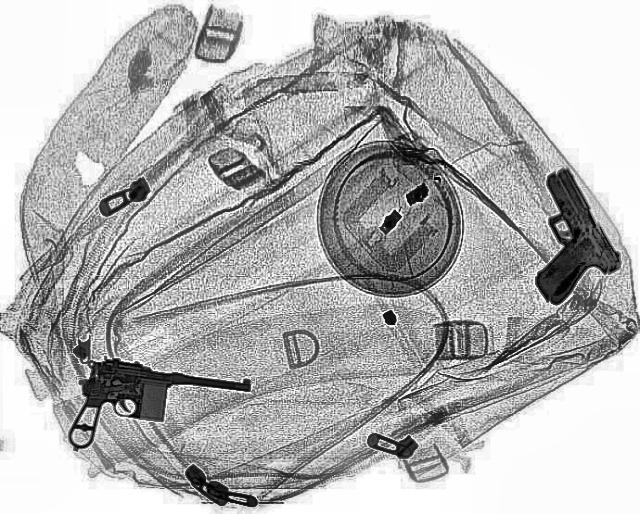Gun: (59, 351, 253, 475), (482, 166, 634, 306)
